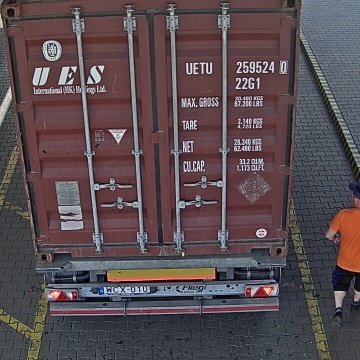serial_id: (186, 61, 288, 74)
